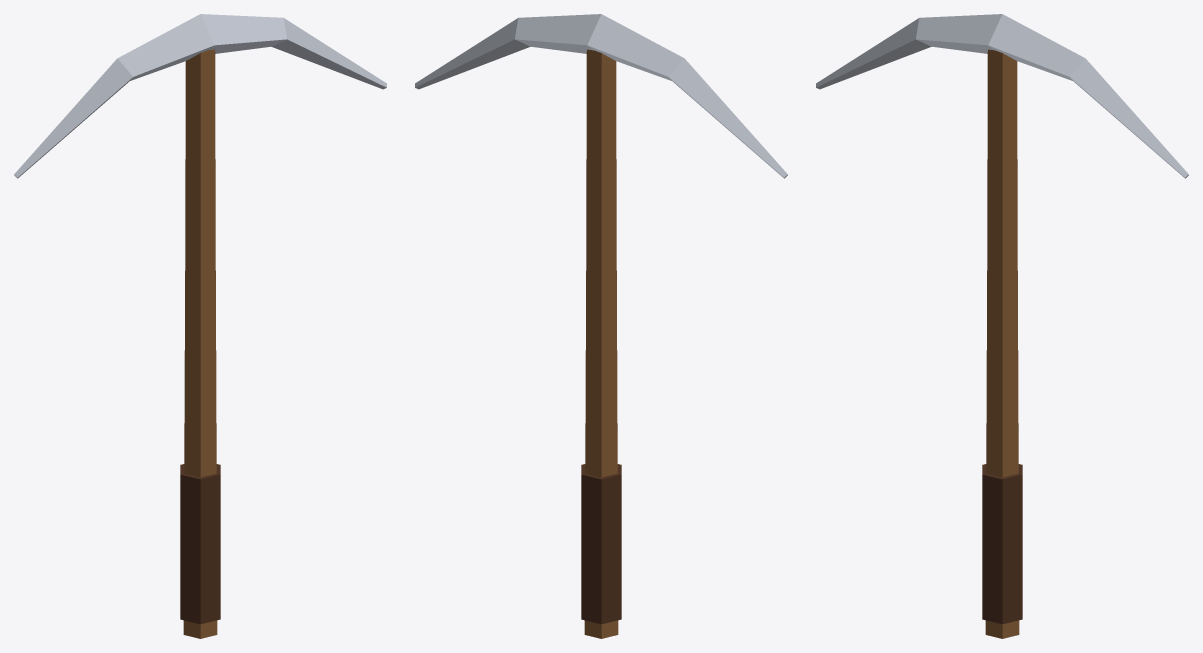
File: pickaxe.glb
3 views of the same model, side by side, from view 1: azimuth 30°, elevation 25°; view 2: azimuth 150°, elevation 25°; view 3: azimuth 330°, elevation 25° (orthographic).
Parts seen in each view (by area): view 1: pickaxe; view 2: pickaxe; view 3: pickaxe.
Part boxes in pixels (x1,y1,x2,y2): pickaxe: (14,14,386,638); pickaxe: (415,14,787,638); pickaxe: (816,14,1188,638).
Bounding box in the file's own units: 0.4846 × 0.766 × 0.064.
